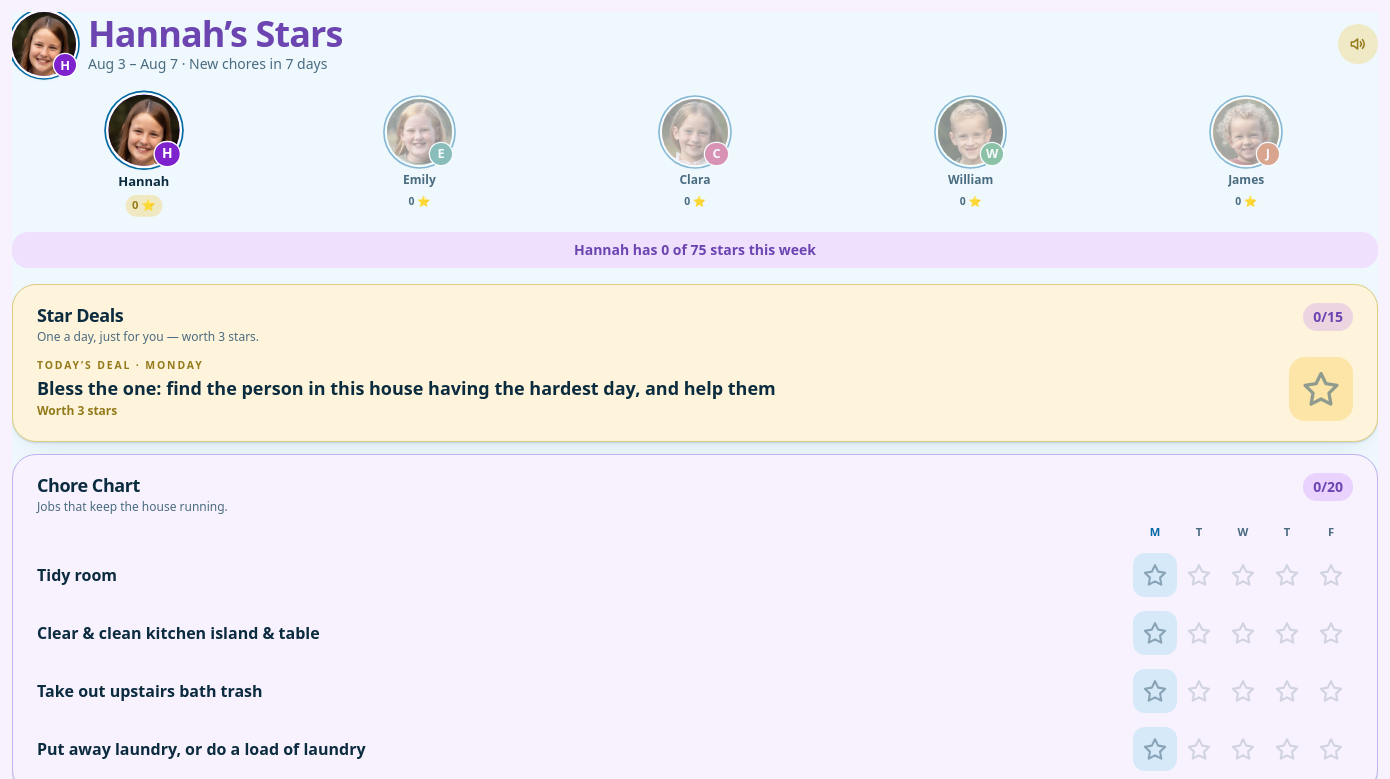
Test: kid-proofing › clears the last failure when the next tap succeeds
The width and height of the screenshot is (1390, 779).
Click the switch named " on Monday": {"x": 1155, "y": 575} [1133,553,1177,597]
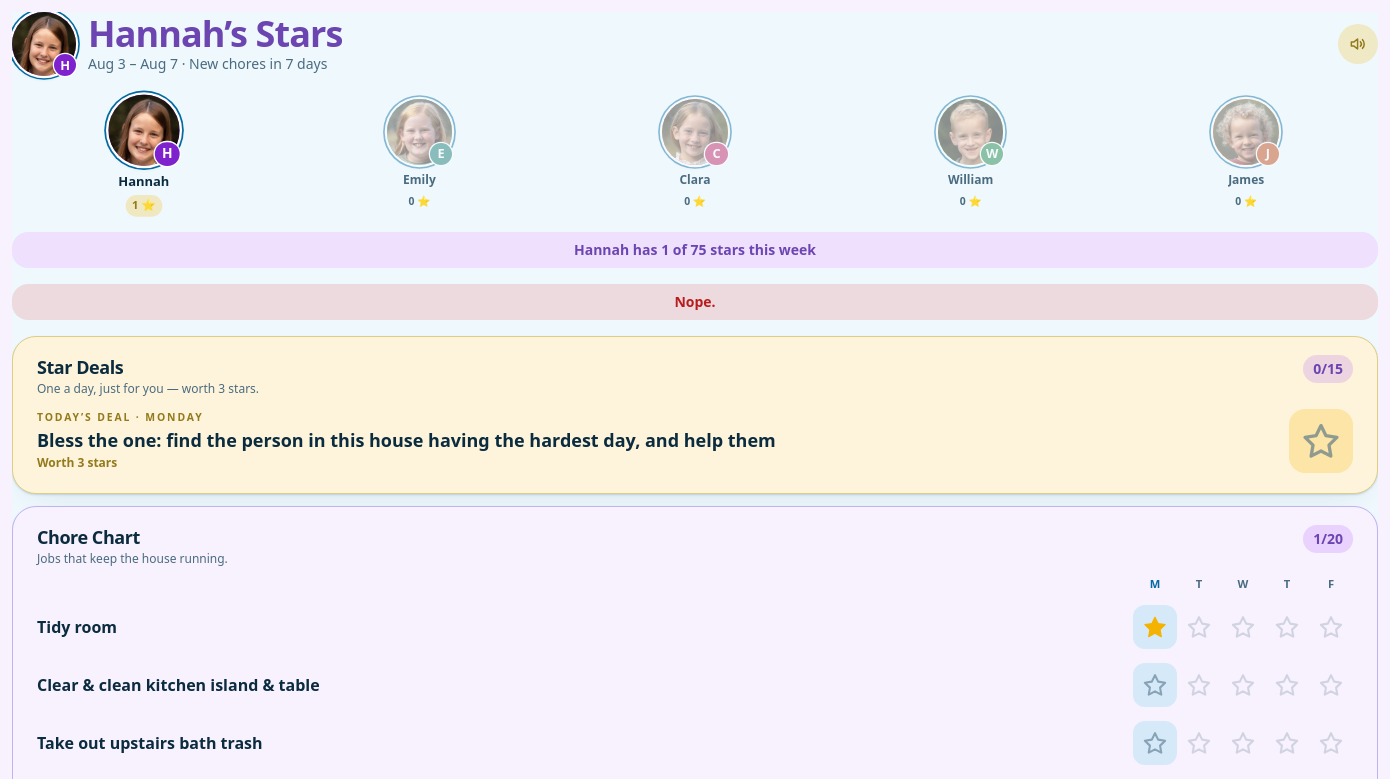
Expected: the message reads "Nope.", [674,292,716,311]
Click the switch named " on Monday": {"x": 1155, "y": 685} [1133,663,1177,707]
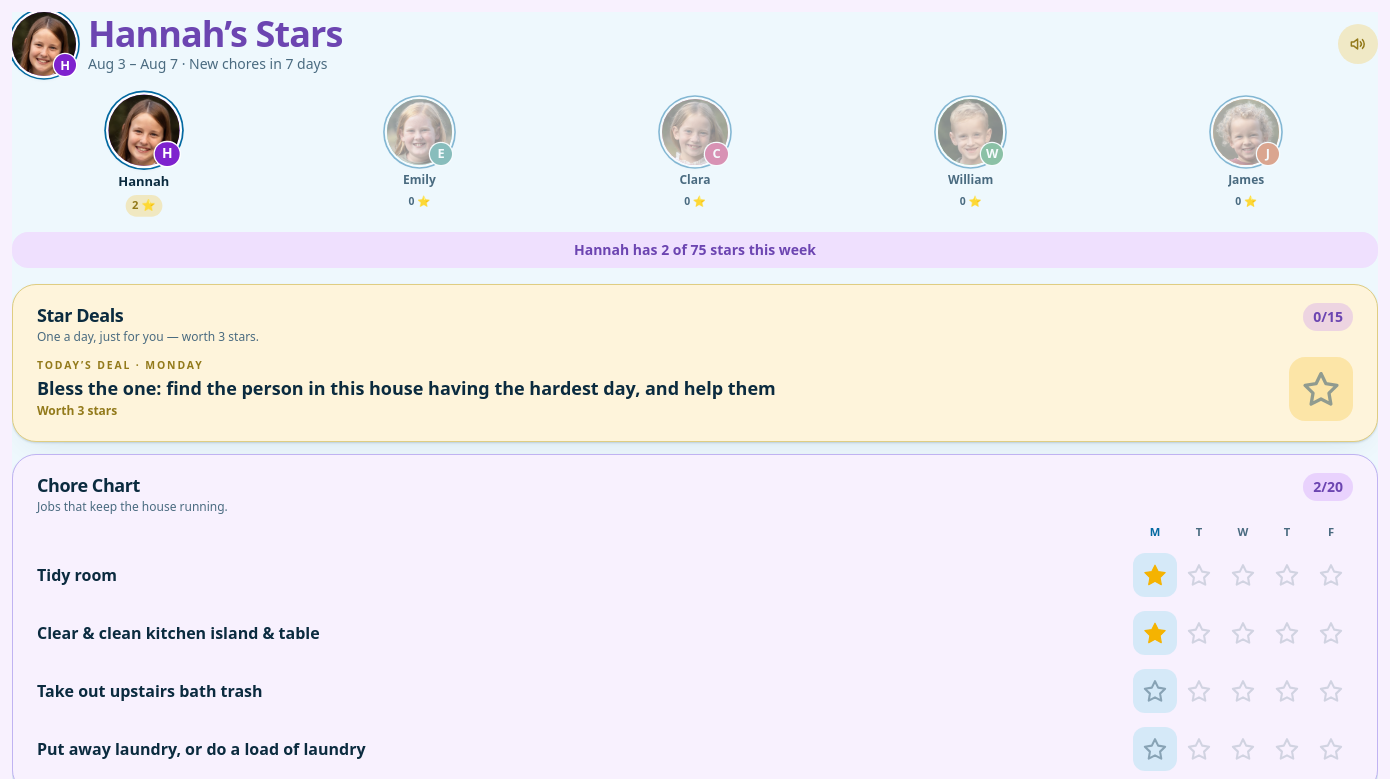
Expected: the text "Nope." is gone
